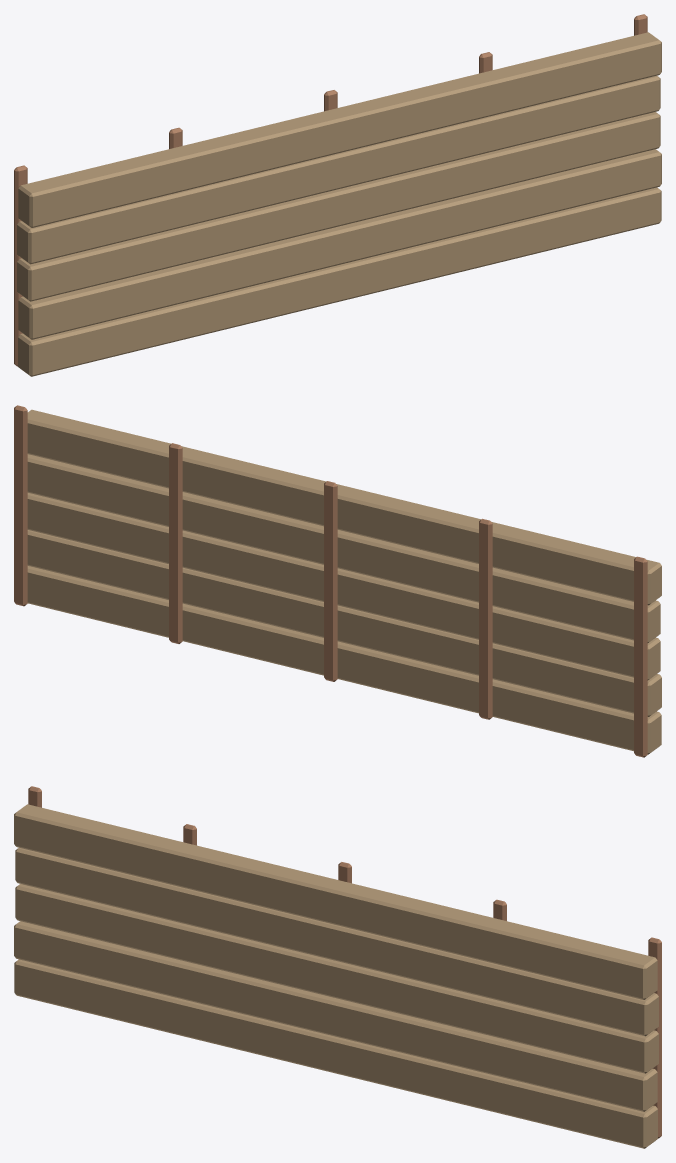
The model's file is bund_wall.glb.
3 views of the same model, one above another, from view 1: azimuth 30°, elevation 25°; view 2: azimuth 150°, elevation 25°; view 3: azimuth 330°, elevation 25° (orthographic).
Parts seen in each view (by area): view 1: bund_wall; view 2: bund_wall; view 3: bund_wall.
Boxes of the visible parts, x1,y1,x2,y2 form: bund_wall: (14, 14, 661, 376); bund_wall: (14, 405, 661, 757); bund_wall: (14, 786, 661, 1148).
Size of the model in its own units: 4 by 1.2 by 0.1986.
